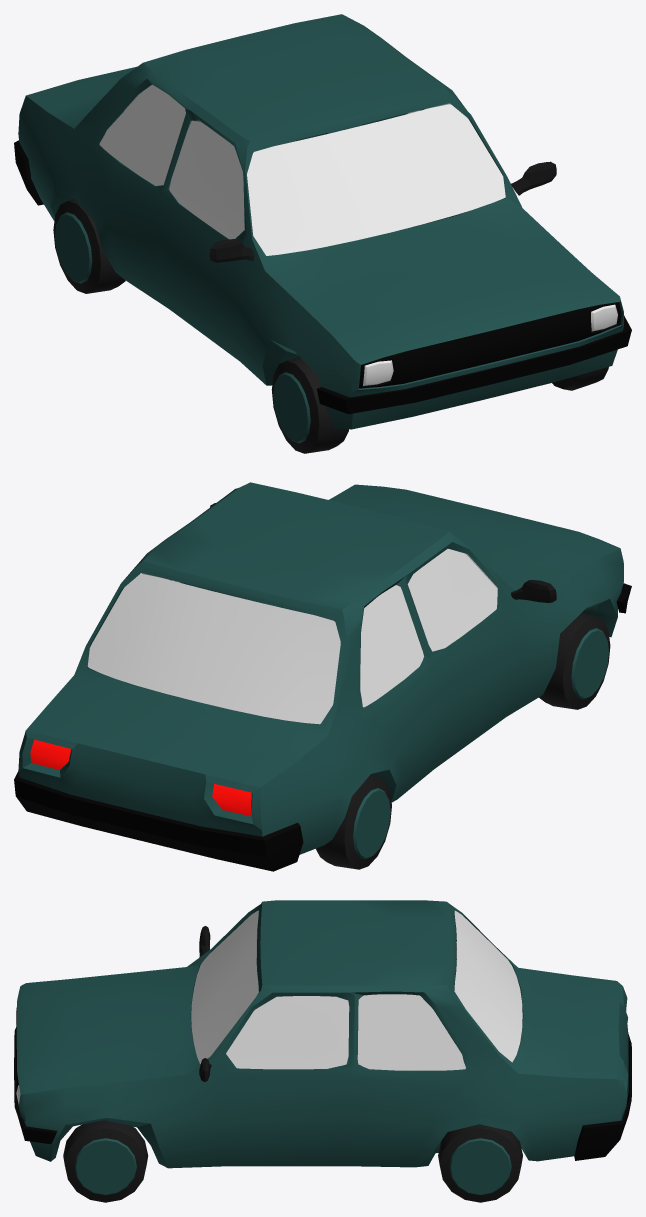
The model's file is taksi2.fbx.
3 views of the same model, one above another, from view 1: azimuth 30°, elevation 25°; view 2: azimuth 150°, elevation 25°; view 3: azimuth 270°, elevation 25° (orthographic). The views are drawn at different scales.
Visible parts, largest first — view 1: Cube.012, Cube.024, Cube.001, Cube.003; view 2: Cube.012, Cube.024, Cube.001; view 3: Cube.012, Cube.003, Cube.002.
Boxes of the visible parts, x1,y1,x2,y2 form: Cube.012: (14,14,631,429); Cube.024: (271,356,348,453); Cube.001: (53,199,125,293); Cube.003: (552,367,608,390); Cube.012: (14,482,631,871); Cube.024: (539,612,610,709); Cube.001: (316,774,391,869); Cube.012: (14,900,631,1168); Cube.003: (63,1120,148,1202); Cube.002: (438,1124,522,1202).
Bounding box in the file's own units: 666 × 433 × 1196.
